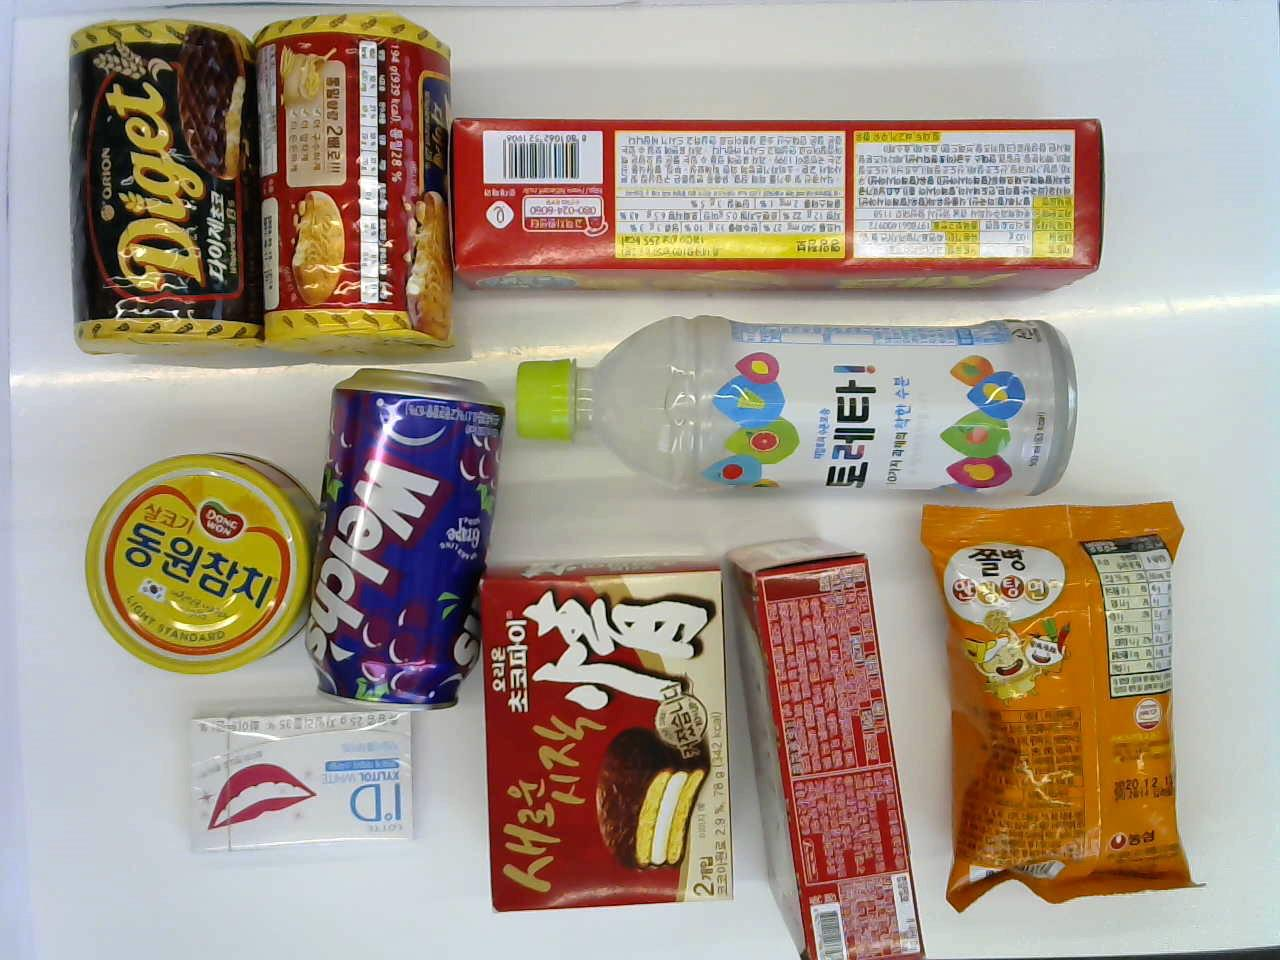ID_gum: (160, 703, 439, 860)
chocopie: (467, 551, 744, 920)
couque_white: (736, 524, 918, 958)
diget_choco: (53, 16, 261, 364)
diget_ori: (253, 6, 462, 354)
jjolbyung_noodle: (929, 487, 1198, 914)
toreta: (507, 305, 1082, 502)
tuna: (79, 441, 308, 678)
welchs: (303, 364, 512, 713)
zec: (454, 107, 1123, 306)
